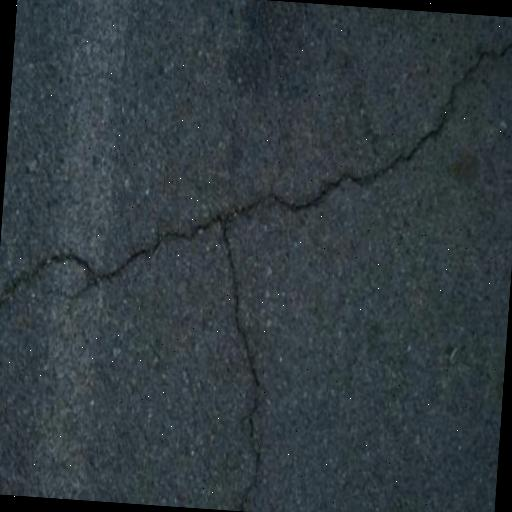spalling: (5, 27, 512, 306), (212, 218, 281, 505)
